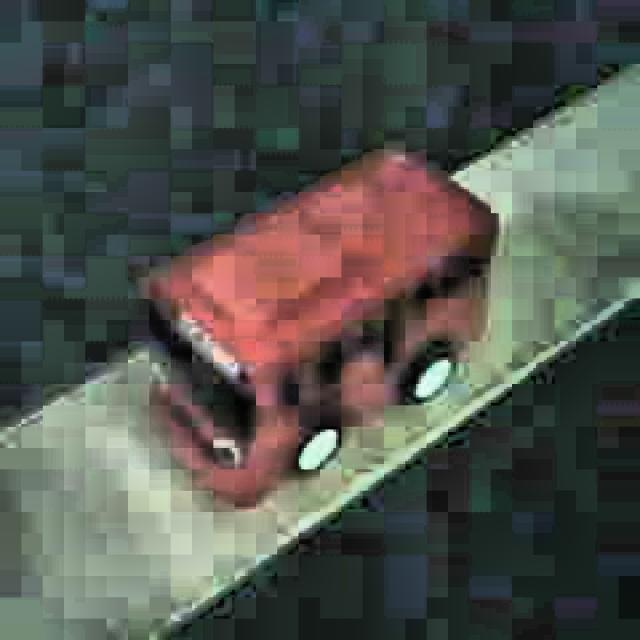bus: (144, 145, 501, 511)
